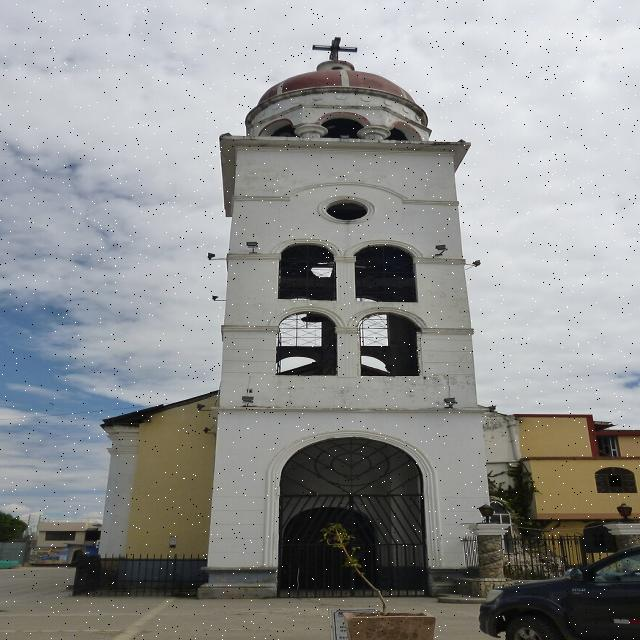CAMPANARIO: (210, 239, 492, 398)
CUPULA: (234, 60, 447, 142)
TORRES: (186, 32, 522, 607)
colonial-architecture-: (8, 24, 588, 626)
